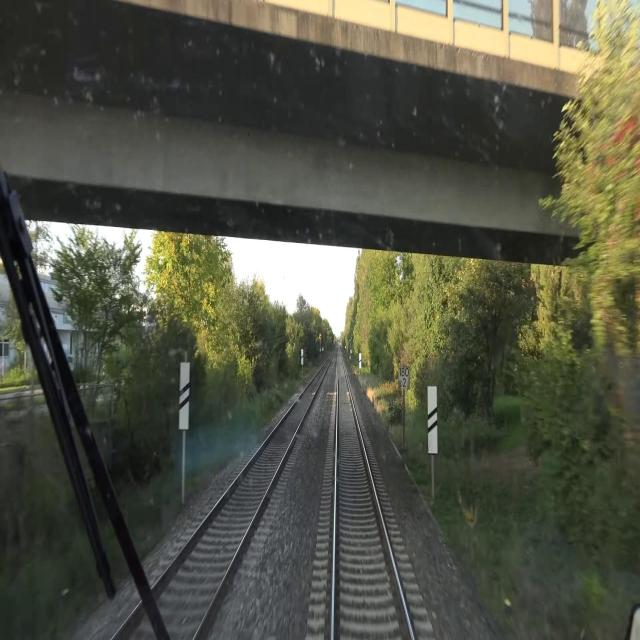rail-track: (167, 365, 326, 635), (335, 359, 410, 639)
